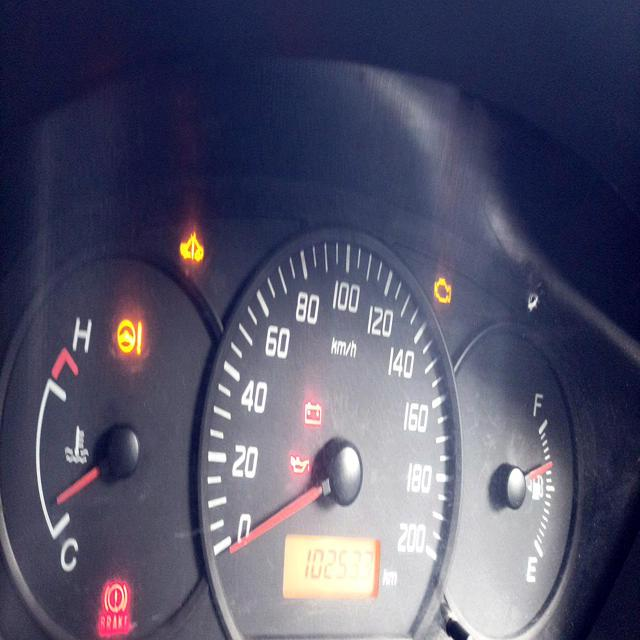odometer: (300, 544, 377, 586)
